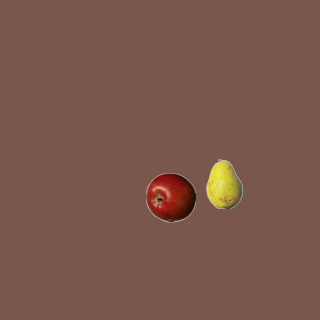Apple Braeburn: (145, 172, 195, 222)
Pear Monster: (199, 158, 249, 208)
